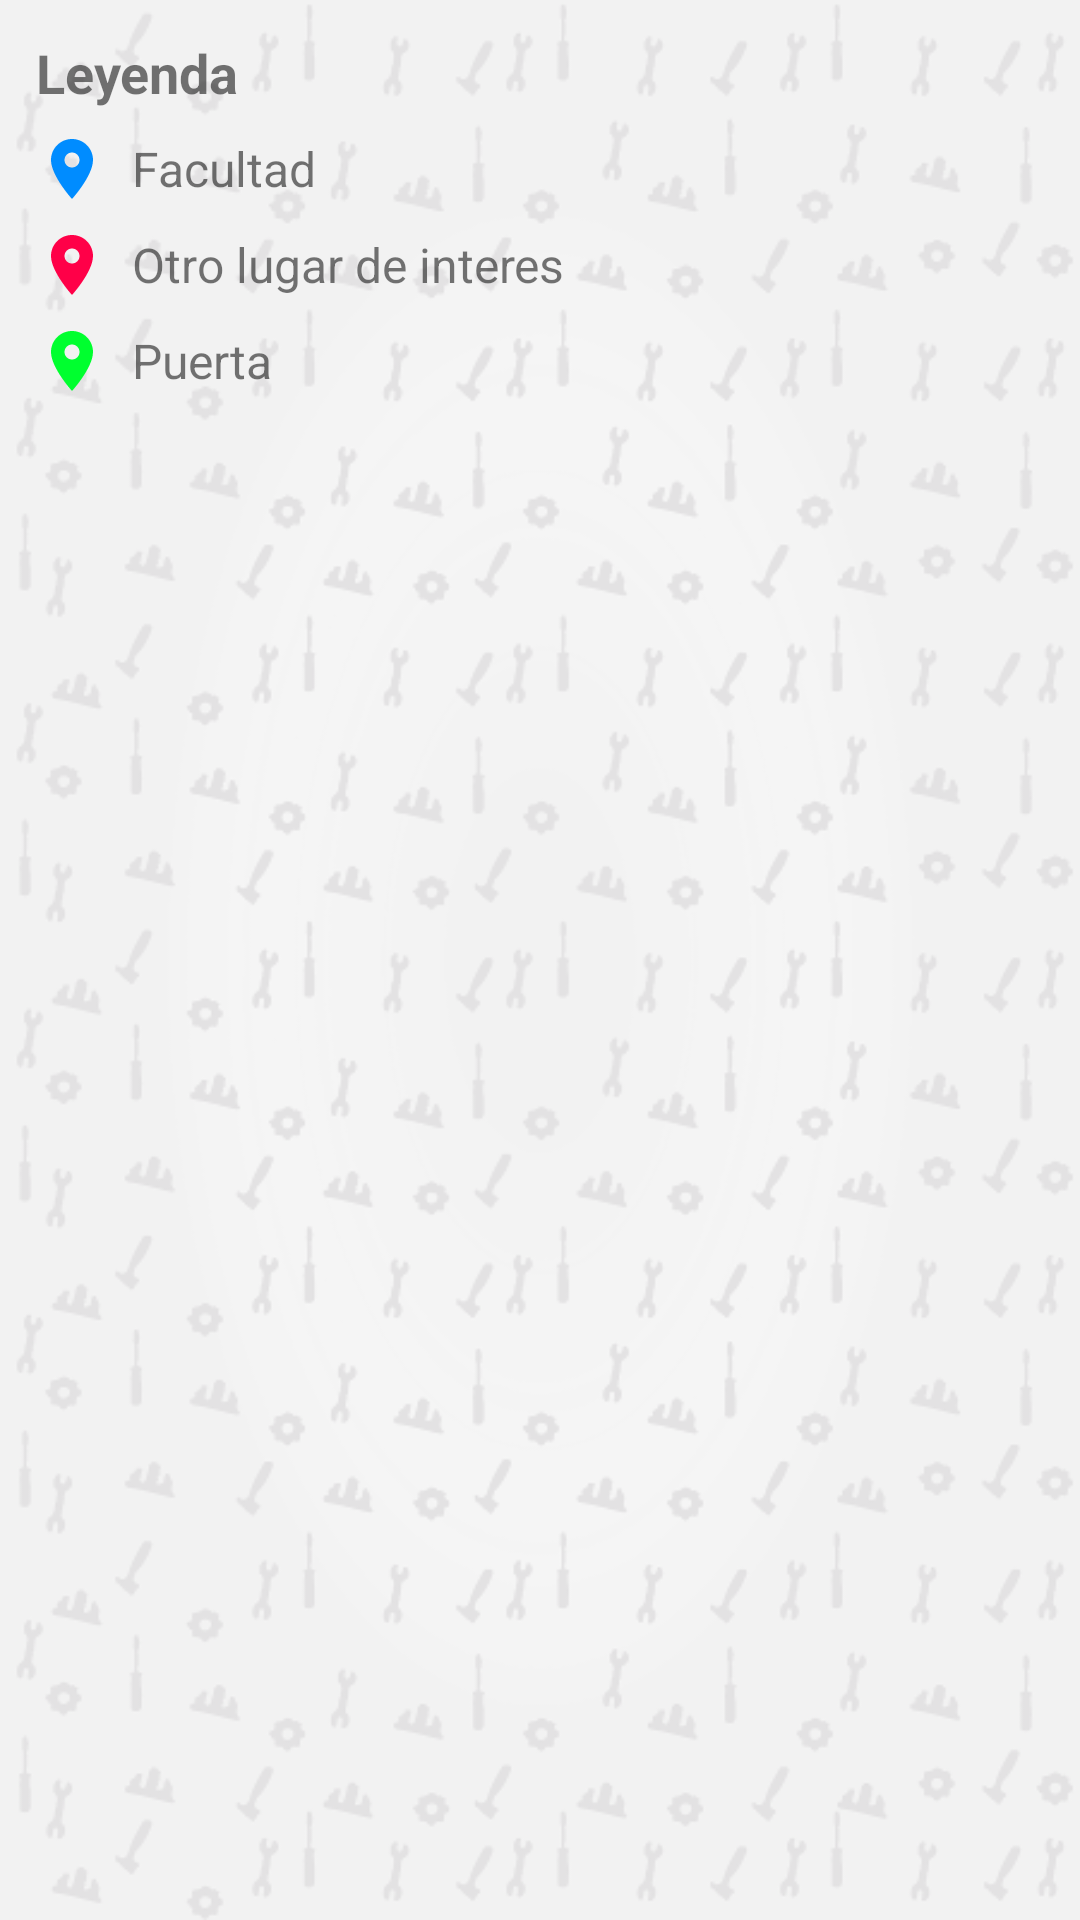

Locate icon controls on the screen. Image size 1080x1920, boxes as (x1, y1, x2, y2).
place otro: (51, 235, 93, 295)
